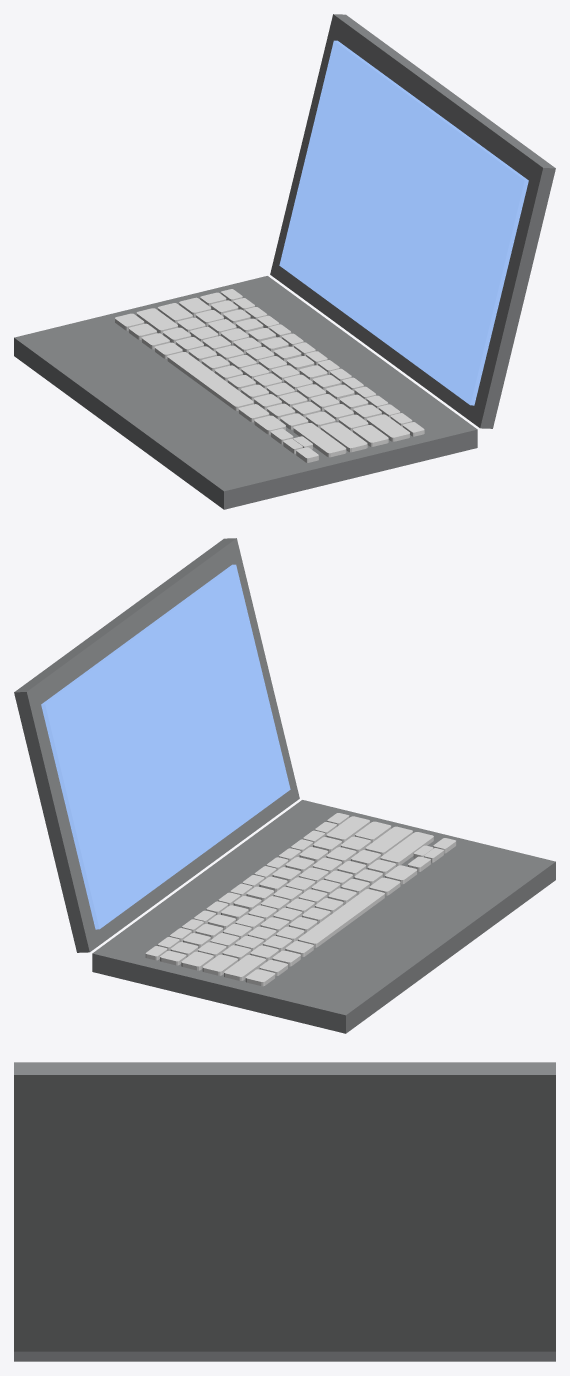
File: notebook.glb
The picture shows the model from 3 angles, top to bottom: view 1: azimuth 30°, elevation 25°; view 2: azimuth 150°, elevation 25°; view 3: azimuth 270°, elevation 25°; orthographic projection. The views are drawn at different scales.
Visible parts, largest first — view 1: I_Notebook_Tela_Acesa, I_Notebook_Base, Cube.001, I_Notebook_Tela; view 2: I_Notebook_Tela_Acesa, I_Notebook_Base, Cube.001, I_Notebook_Tela; view 3: I_Notebook_Tela, I_Notebook_Base.
Boxes of the visible parts, x1,y1,x2,y2 form: I_Notebook_Tela_Acesa: (279,40,528,405); I_Notebook_Base: (14,276,477,509); Cube.001: (115,289,424,462); I_Notebook_Tela: (270,14,555,428); I_Notebook_Tela_Acesa: (41,564,290,929); I_Notebook_Base: (92,800,555,1033); Cube.001: (145,813,456,986); I_Notebook_Tela: (14,538,299,952); I_Notebook_Tela: (14,1062,555,1351); I_Notebook_Base: (14,1351,555,1361).
Bounding box in the file's own units: 0.301 × 0.2288 × 0.33.
